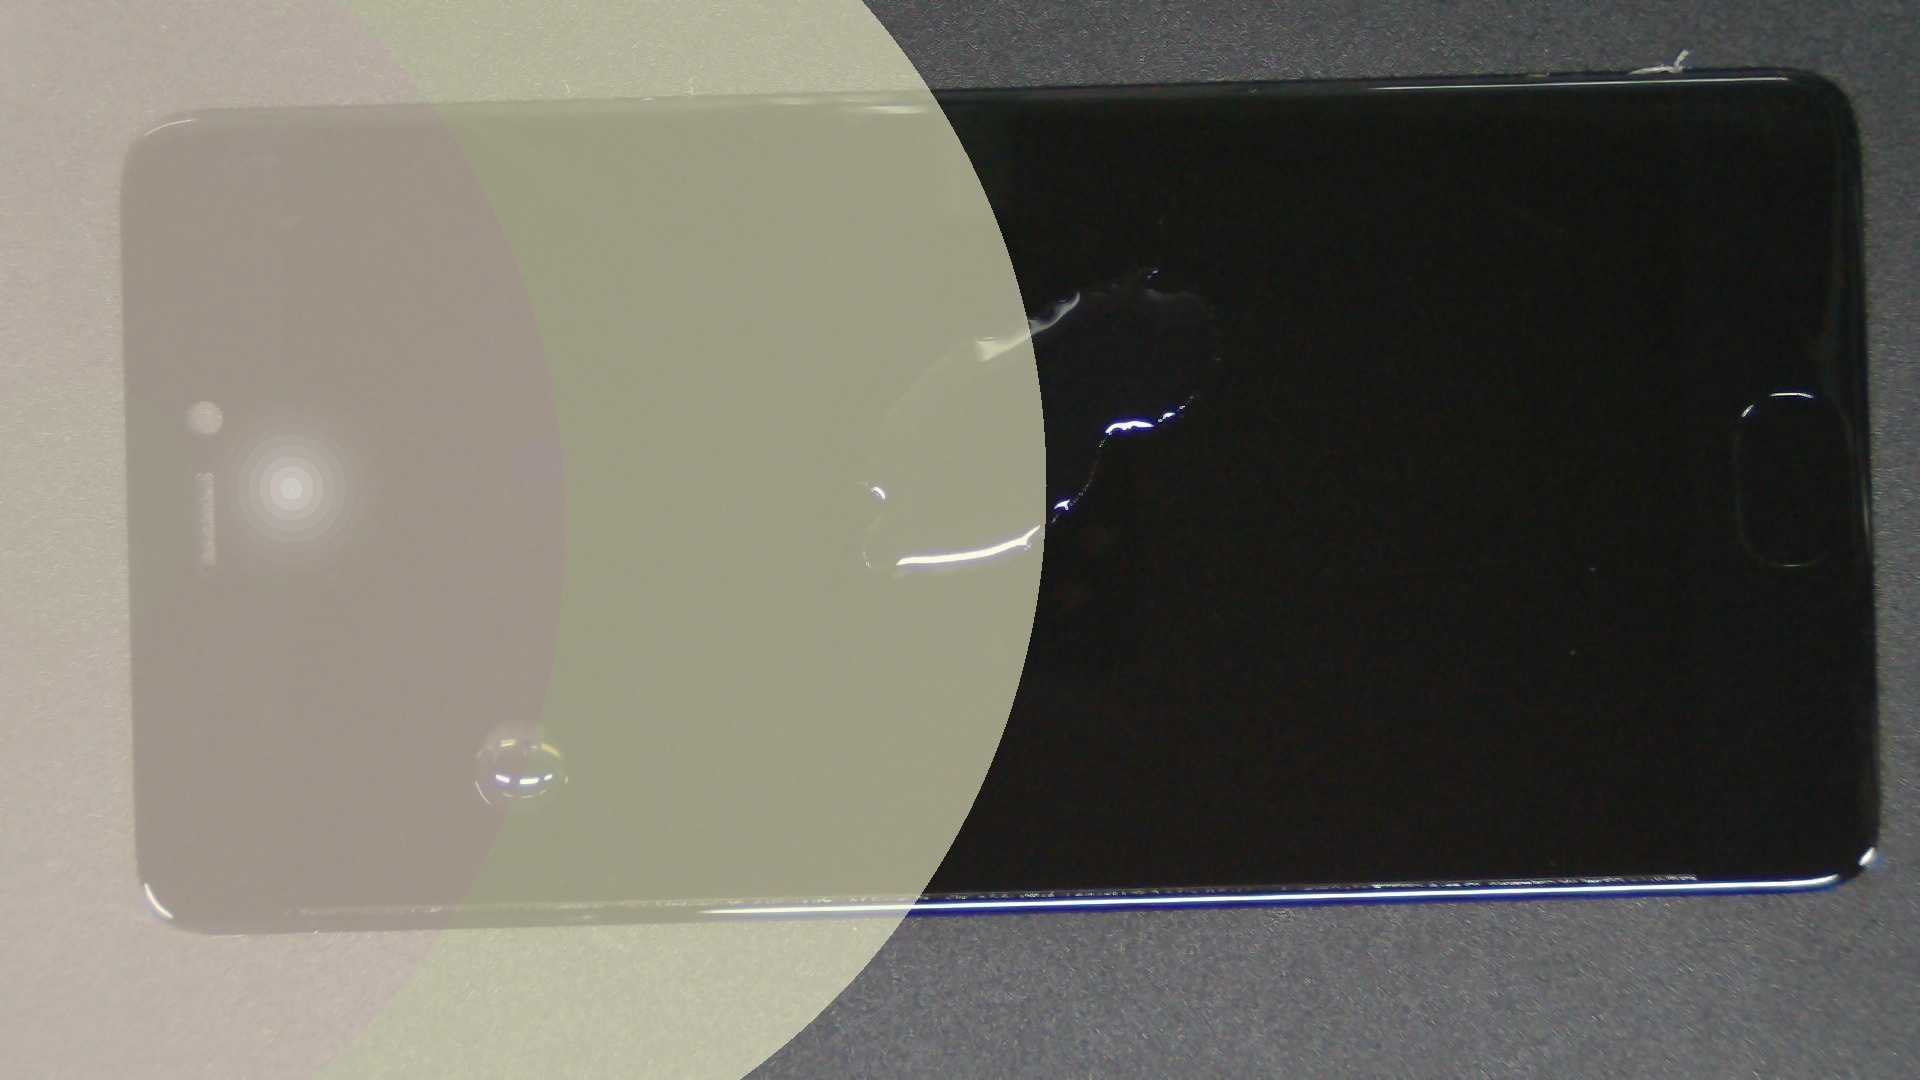oil: (257, 360, 769, 1080), (568, 132, 1702, 398)
